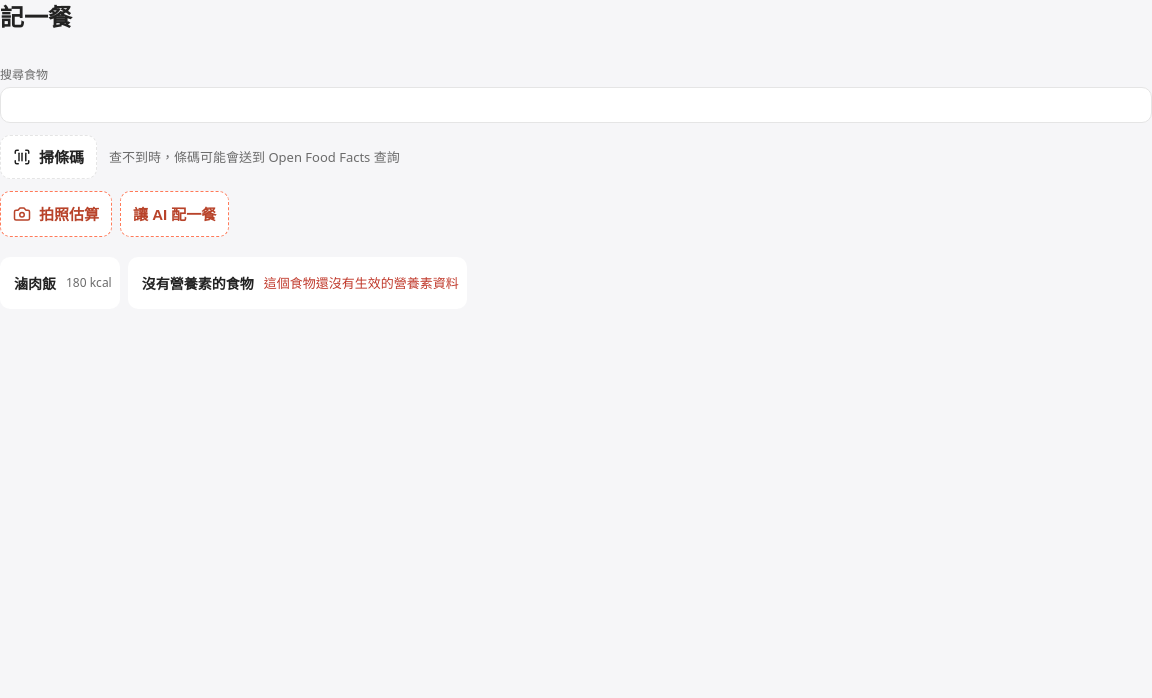
it: 記一餐 › 換算後的公克數超出範圍：顯示後端訊息，不是「記錄失敗，請再試一次」
Click the button "滷肉飯": {"x": 35, "y": 283} [8,261,62,305]
(page scrolled)
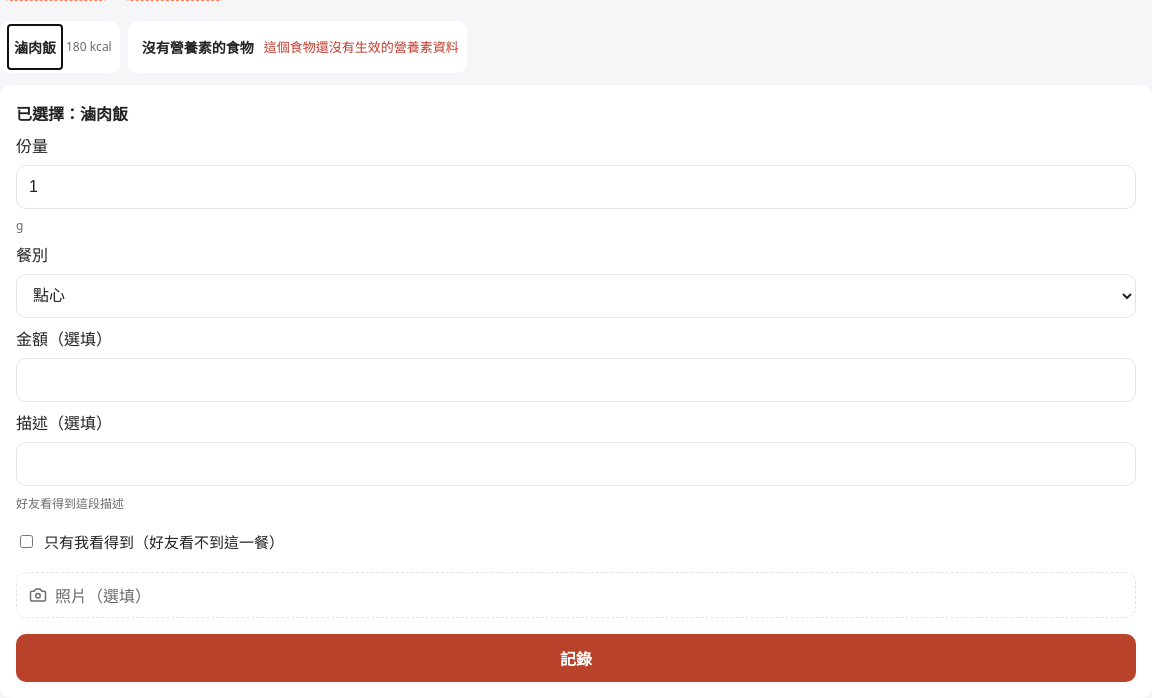
Click the button "記錄": {"x": 576, "y": 658} [16,634,1136,682]
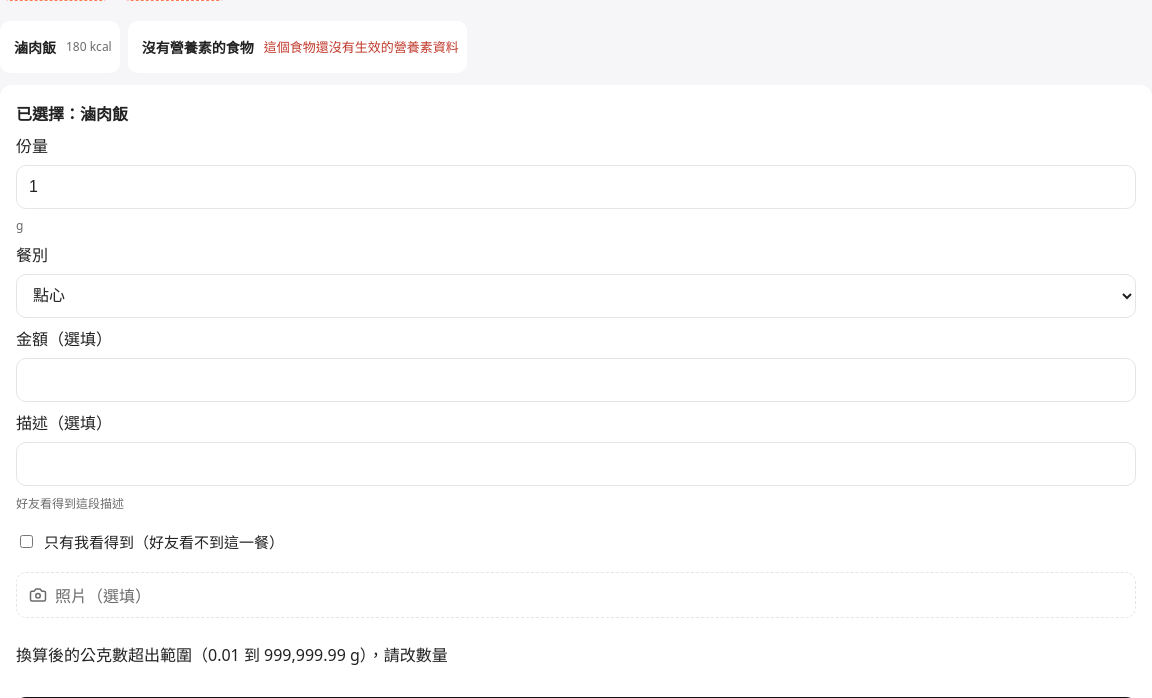
Check: the text "換算後的公克數超出範圍（0.01 到 999,999.99 g），請改數量" is shown, box [16,644,448,666]
